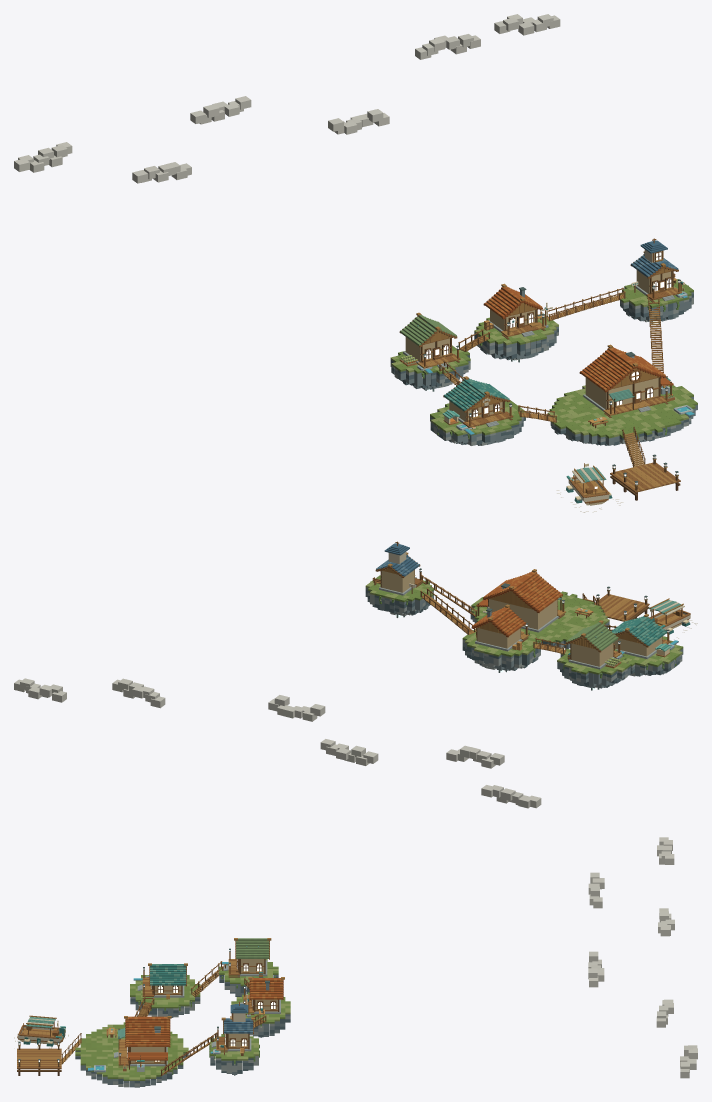
File: village_environment.glb
The picture shows the model from 3 angles, top to bottom: view 1: azimuth 30°, elevation 25°; view 2: azimuth 150°, elevation 25°; view 3: azimuth 270°, elevation 25°; orthographic projection. The views are drawn at different scales.
Visible parts, largest first — view 1: voxel_sky_clouds_mesh, island_main_mesh, house_main_mesh, house_pet_mesh, house_garden_mesh, house_workshop_mesh, island_workshop_mesh, island_pet_mesh, house_lookout_mesh, island_lookout_mesh, island_garden_mesh, dock_main_mesh (+3 smaller); view 2: voxel_sky_clouds_mesh, house_main_mesh, island_main_mesh, house_garden_mesh, island_workshop_mesh, house_workshop_mesh, house_pet_mesh, house_lookout_mesh, island_lookout_mesh, island_garden_mesh, island_pet_mesh, dock_main_mesh (+2 smaller); view 3: island_main_mesh, voxel_sky_clouds_mesh, house_main_mesh, island_pet_mesh, house_garden_mesh, house_pet_mesh, house_lookout_mesh, house_workshop_mesh, dock_main_mesh, island_lookout_mesh, boat_departure_mesh, island_workshop_mesh (+2 smaller).
Boxes of the visible parts, x1=… form: voxel_sky_clouds_mesh: x1=14, y1=14, x2=560, y2=183; island_main_mesh: x1=547, y1=385, x2=697, y2=445; house_main_mesh: x1=579, y1=344, x2=673, y2=417; house_pet_mesh: x1=443, y1=376, x2=513, y2=429; house_garden_mesh: x1=399, y1=312, x2=460, y2=370; house_workshop_mesh: x1=483, y1=283, x2=545, y2=339; island_workshop_mesh: x1=474, y1=313, x2=558, y2=360; island_pet_mesh: x1=430, y1=400, x2=525, y2=445; house_lookout_mesh: x1=630, y1=238, x2=681, y2=302; island_lookout_mesh: x1=620, y1=279, x2=693, y2=322; island_garden_mesh: x1=390, y1=345, x2=470, y2=390; dock_main_mesh: x1=610, y1=454, x2=680, y2=500; voxel_sky_clouds_mesh: x1=14, y1=678, x2=541, y2=808; house_main_mesh: x1=476, y1=569, x2=565, y2=632; island_main_mesh: x1=470, y1=591, x2=609, y2=648; house_garden_mesh: x1=565, y1=620, x2=621, y2=669; island_workshop_mesh: x1=462, y1=629, x2=540, y2=670; house_workshop_mesh: x1=471, y1=604, x2=529, y2=651; house_pet_mesh: x1=611, y1=614, x2=670, y2=659; house_lookout_mesh: x1=375, y1=541, x2=422, y2=595; island_lookout_mesh: x1=365, y1=575, x2=434, y2=616; island_garden_mesh: x1=557, y1=648, x2=630, y2=688; island_pet_mesh: x1=623, y1=636, x2=683, y2=676; dock_main_mesh: x1=595, y1=586, x2=649, y2=621; island_main_mesh: x1=75, y1=1022, x2=188, y2=1087; voxel_sky_clouds_mesh: x1=588, y1=837, x2=697, y2=1078; house_main_mesh: x1=114, y1=1016, x2=171, y2=1069; island_pet_mesh: x1=130, y1=975, x2=200, y2=1017; house_garden_mesh: x1=223, y1=938, x2=271, y2=977; house_pet_mesh: x1=137, y1=963, x2=187, y2=998; house_lookout_mesh: x1=211, y1=1001, x2=255, y2=1052; house_workshop_mesh: x1=238, y1=977, x2=284, y2=1014; dock_main_mesh: x1=17, y1=1041, x2=61, y2=1075; island_lookout_mesh: x1=210, y1=1034, x2=258, y2=1074; boat_departure_mesh: x1=17, y1=1015, x2=64, y2=1044; island_workshop_mesh: x1=231, y1=992, x2=290, y2=1037.
Bounding box in the file's own units: 119 × 30.25 × 146.
